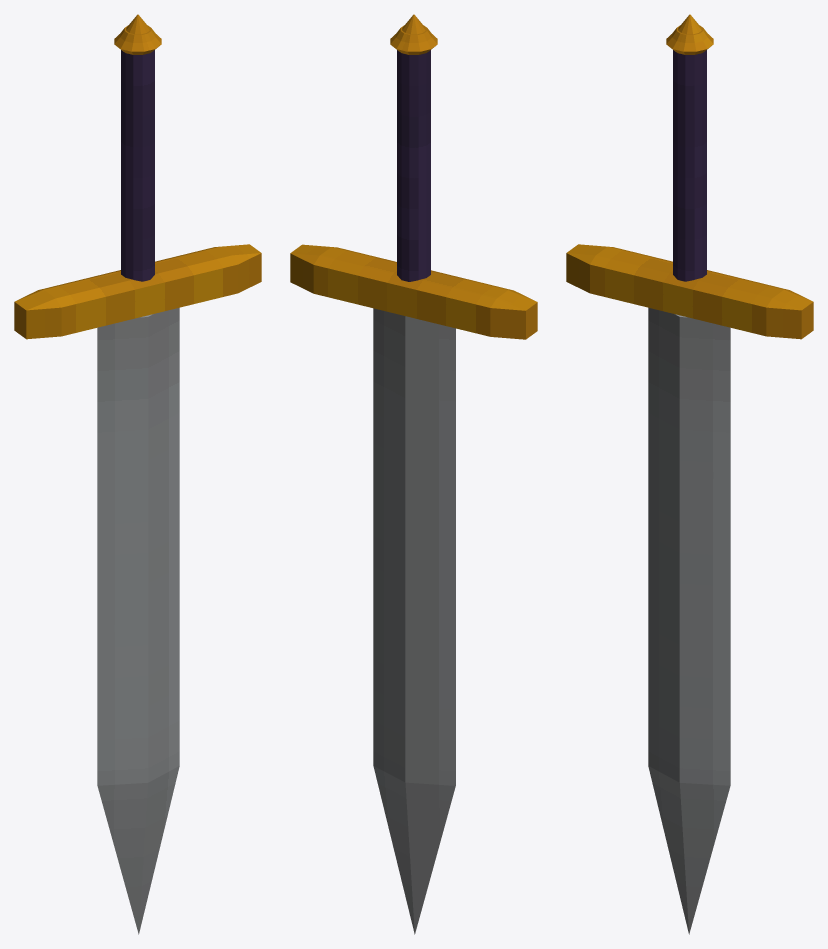
File: sword_1.gltf
The picture shows the model from 3 angles, left to right: view 1: azimuth 30°, elevation 25°; view 2: azimuth 150°, elevation 25°; view 3: azimuth 330°, elevation 25°; orthographic projection.
Parts seen in each view (by area): view 1: plane, beveled_cuboid, cylinder; view 2: plane, beveled_cuboid, cylinder; view 3: plane, beveled_cuboid, cylinder.
Boxes of the visible parts, <box> form: plane: <box>97,307,179,934</box>; beveled_cuboid: <box>14,244,261,339</box>; cylinder: <box>114,14,161,281</box>; plane: <box>373,308,455,934</box>; beveled_cuboid: <box>290,244,537,339</box>; cylinder: <box>390,14,437,281</box>; plane: <box>648,307,730,934</box>; beveled_cuboid: <box>566,244,813,339</box>; cylinder: <box>666,14,713,281</box>.
Size of the model in its own units: 0.5 by 1.87 by 0.0875.
1 material, 1 textured.
